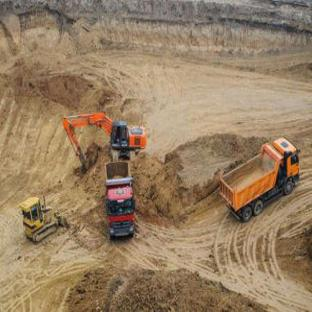ExcavationMachinery: (45, 103, 167, 163), (14, 182, 74, 245)
Vehicle: (208, 133, 308, 230), (102, 165, 147, 247)
